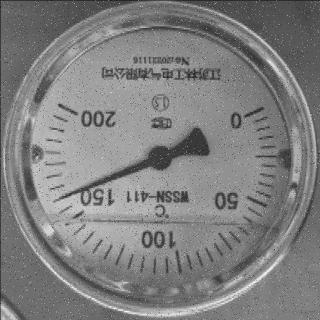gauge: (0, 0, 320, 320), (41, 92, 91, 128), (234, 92, 267, 128), (146, 142, 174, 170), (46, 192, 66, 206)
